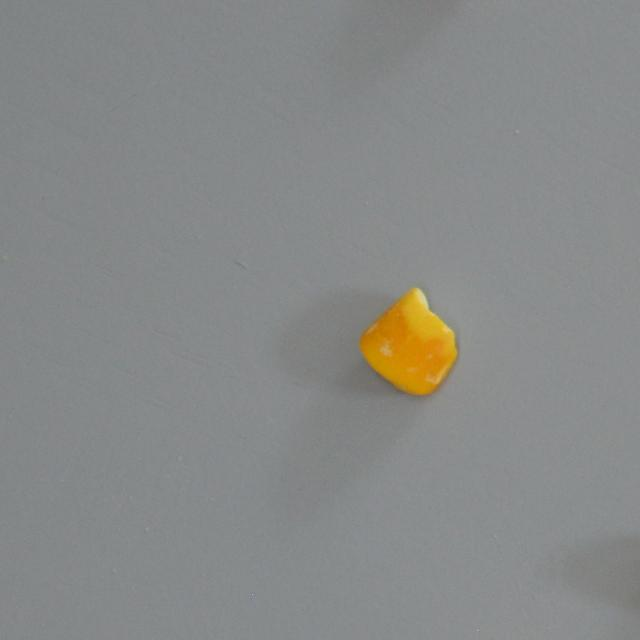pelicula: (356, 286, 459, 396)
